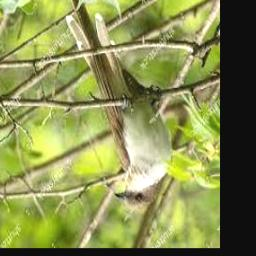Cuckoo: (66, 0, 170, 210)
